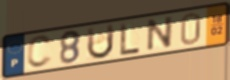0: (179, 11, 202, 47)
8: (58, 29, 82, 65)
C: (26, 33, 55, 69)
L: (119, 21, 142, 58)
N: (145, 14, 176, 53)
U: (86, 22, 116, 62)
